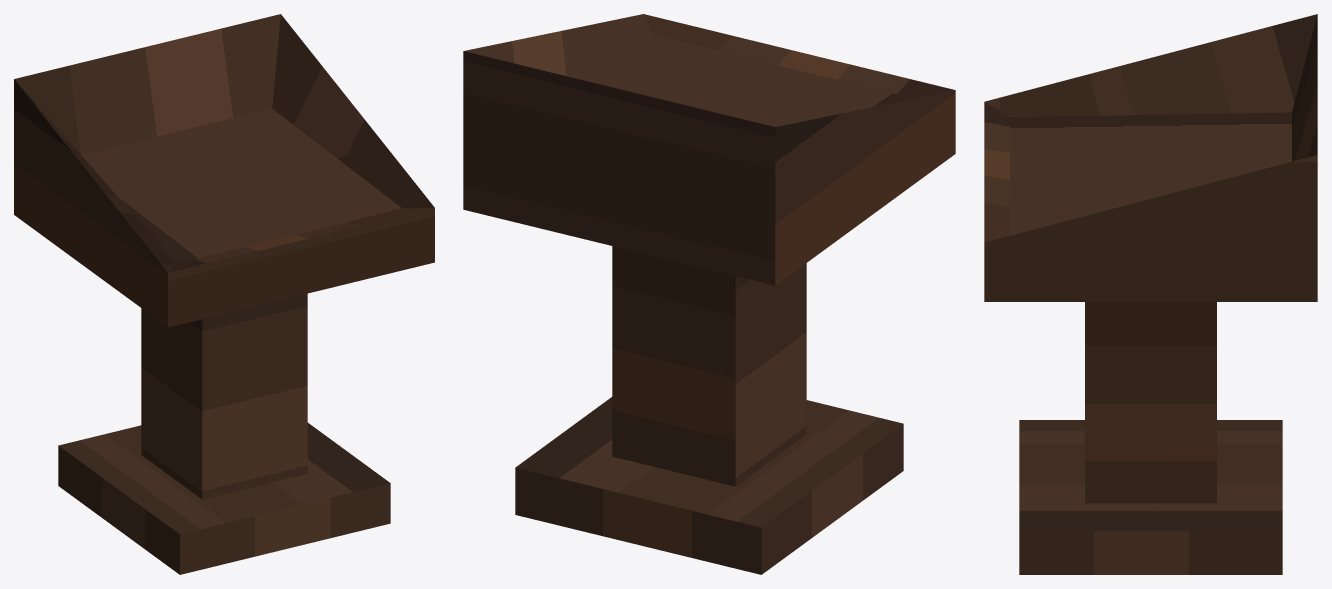
Rendered from book_holder.glb.
3 views of the same model, side by side, from view 1: azimuth 30°, elevation 25°; view 2: azimuth 150°, elevation 25°; view 3: azimuth 270°, elevation 25° (orthographic). The views are drawn at different scales.
Parts seen in each view (by area): view 1: Cube; view 2: Cube; view 3: Cube.
Boxes of the visible parts, x1,y1,x2,y2 form: Cube: (14, 14, 434, 574); Cube: (463, 14, 955, 574); Cube: (984, 14, 1317, 574).
Bounding box in the file's own units: 2.53 × 3.65 × 2.53.
Materials: 1 (1 with a texture image).
